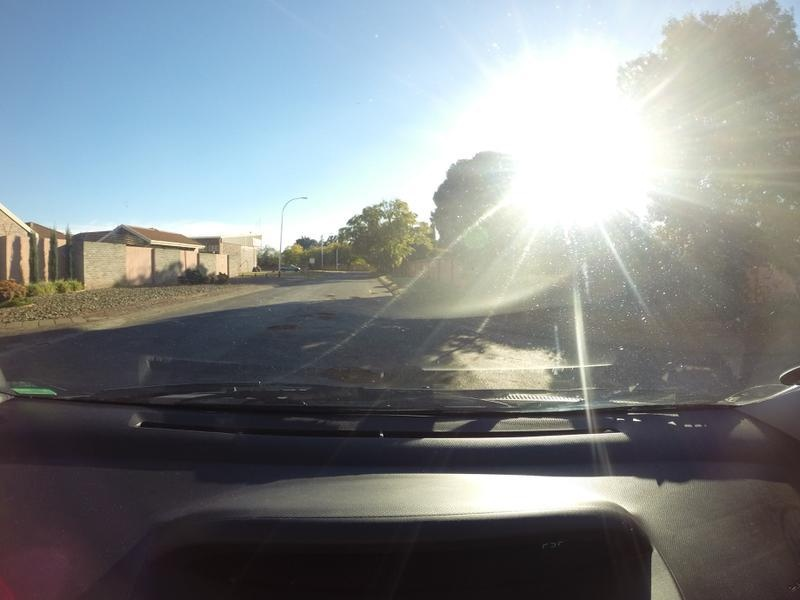pothole: (324, 361, 390, 384), (266, 322, 295, 332), (304, 310, 333, 320), (322, 289, 334, 300), (363, 290, 377, 298)
